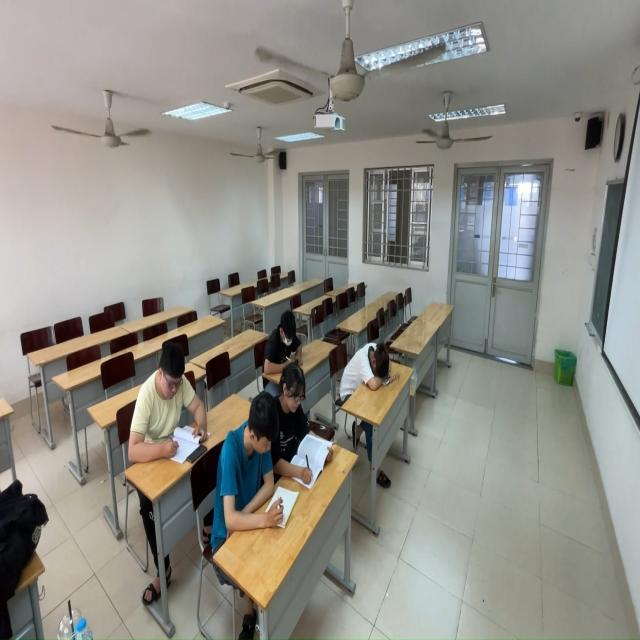sleep: (339, 342, 392, 396)
study: (217, 387, 283, 529), (127, 346, 209, 458), (268, 366, 316, 483), (263, 314, 302, 369)
